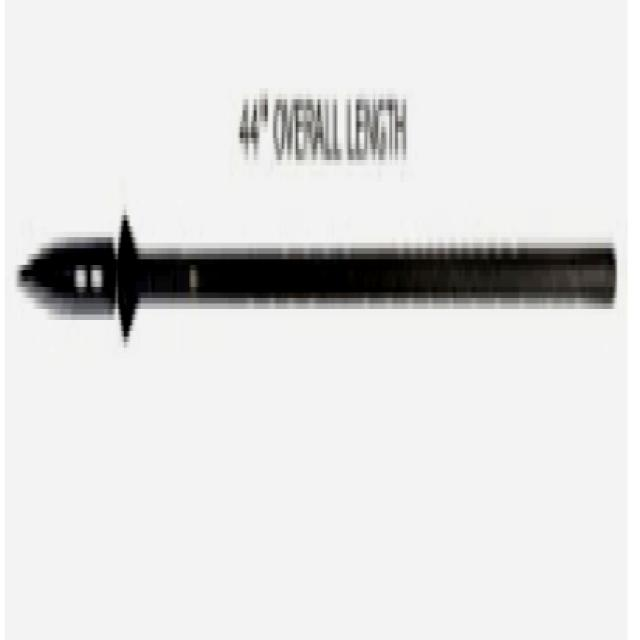spear: (5, 212, 624, 390)
